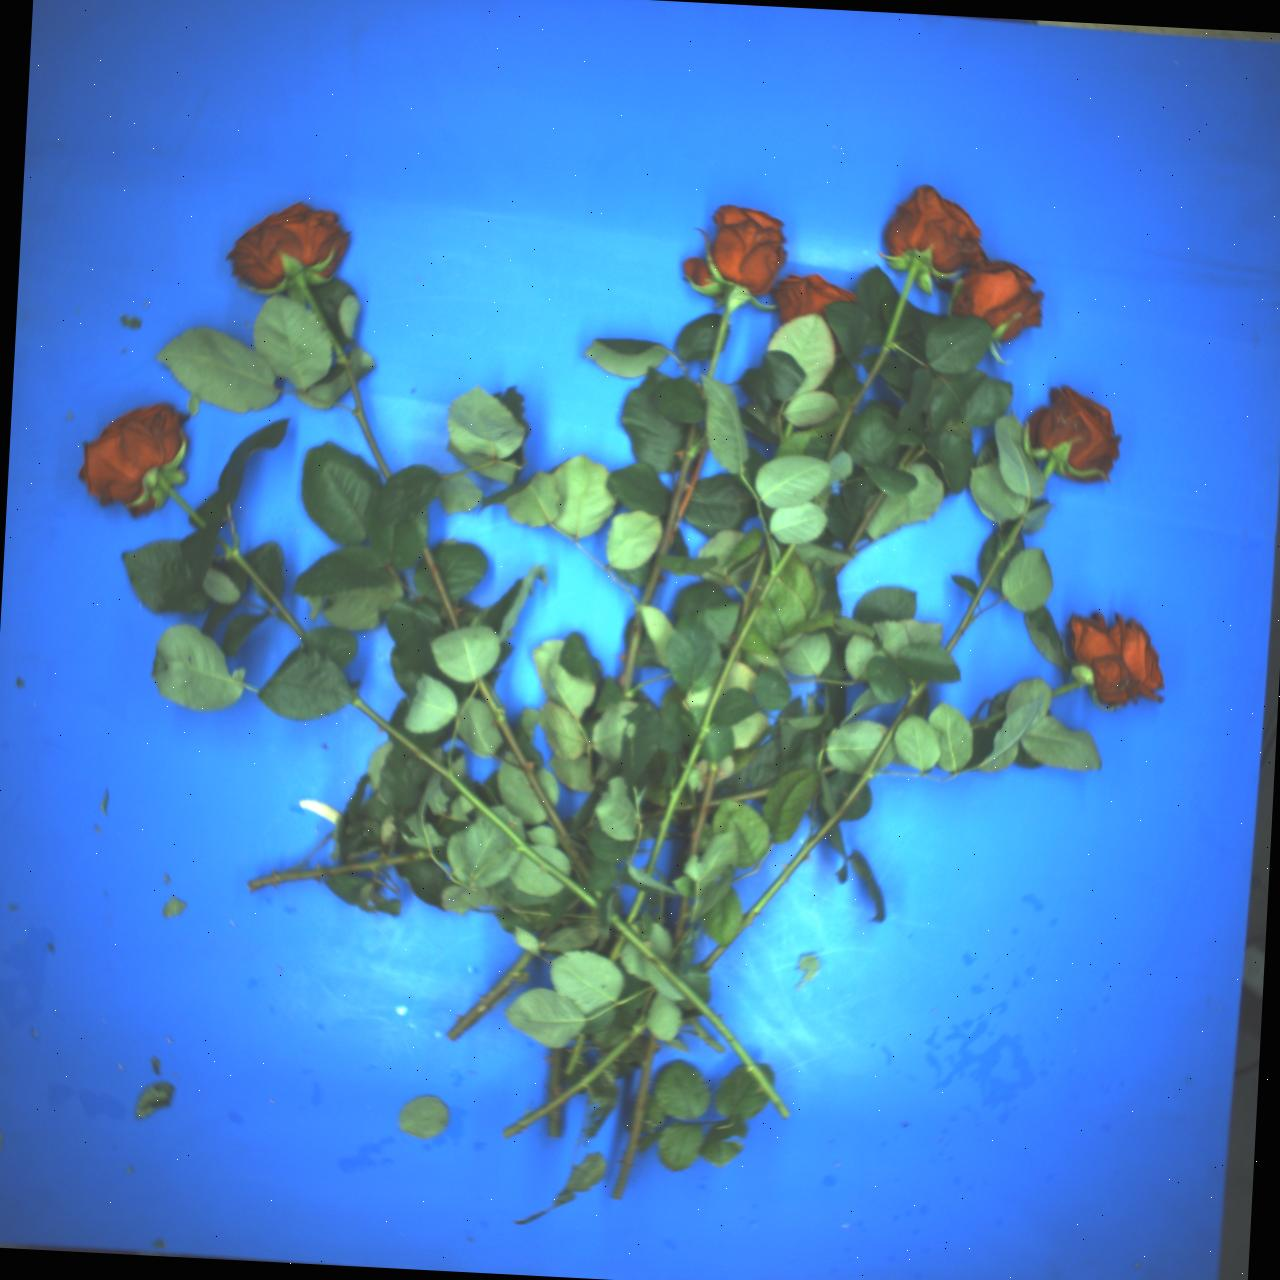Stem: (348, 689, 605, 919), (633, 537, 798, 877), (726, 678, 939, 939), (598, 913, 804, 1121), (472, 676, 594, 883), (821, 257, 927, 465), (501, 1016, 649, 1150), (639, 418, 699, 608), (944, 516, 1024, 654), (326, 332, 393, 482), (213, 533, 307, 639), (606, 1039, 665, 1200), (445, 946, 537, 1047), (246, 845, 433, 892), (682, 757, 721, 863), (420, 545, 461, 631), (152, 471, 207, 531), (737, 542, 771, 626), (843, 490, 887, 552), (618, 612, 646, 695), (292, 272, 327, 331), (706, 302, 733, 379), (706, 784, 777, 810), (685, 1014, 726, 1055), (563, 1033, 586, 1076), (672, 897, 690, 947), (699, 941, 729, 972), (969, 708, 1008, 731), (547, 1048, 565, 1095), (1048, 678, 1083, 699), (625, 891, 646, 925), (607, 933, 626, 965), (897, 441, 918, 468), (546, 1105, 563, 1137), (639, 806, 667, 821), (672, 802, 700, 813), (783, 421, 795, 442), (822, 761, 837, 775), (831, 564, 847, 577)
flower: (871, 175, 1008, 301), (1013, 379, 1136, 495), (944, 244, 1063, 358), (224, 198, 354, 291), (1064, 602, 1166, 713), (700, 200, 794, 300), (770, 267, 858, 324)
